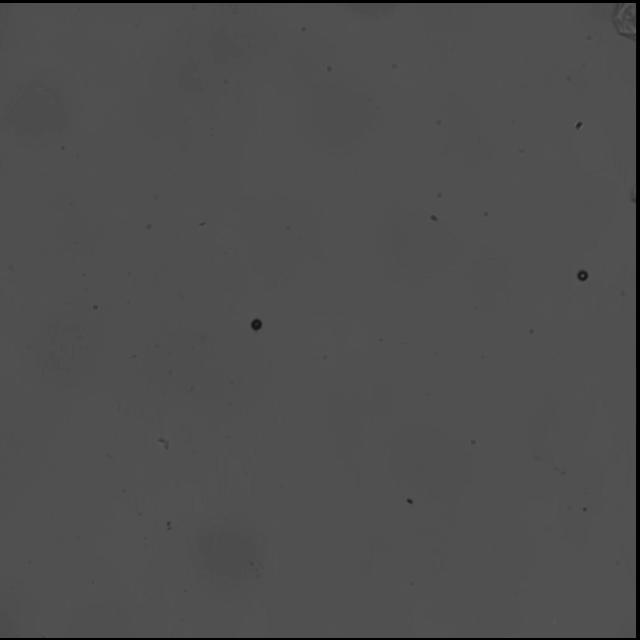microbeads: (248, 314, 262, 334)
